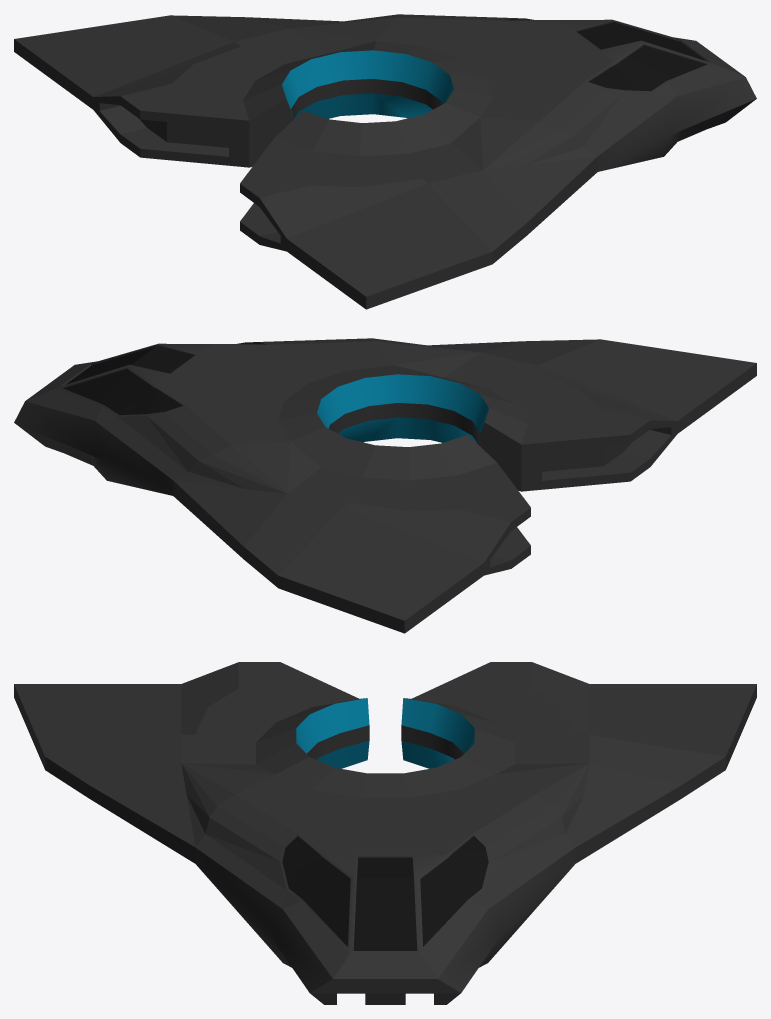
File: SM_Drone.fbx
The picture shows the model from 3 angles, top to bottom: view 1: azimuth 30°, elevation 25°; view 2: azimuth 150°, elevation 25°; view 3: azimuth 270°, elevation 25°; orthographic projection. The views are drawn at different scales.
Visible parts, largest first — view 1: polySurface8; view 2: polySurface8; view 3: polySurface8.
Boxes of the visible parts, left/top/right/bottom form: polySurface8: left=14, top=14, right=756, bottom=309; polySurface8: left=14, top=338, right=756, bottom=633; polySurface8: left=14, top=662, right=756, bottom=1004.
Size of the model in its own units: 73.44 by 12.53 by 84.38.
